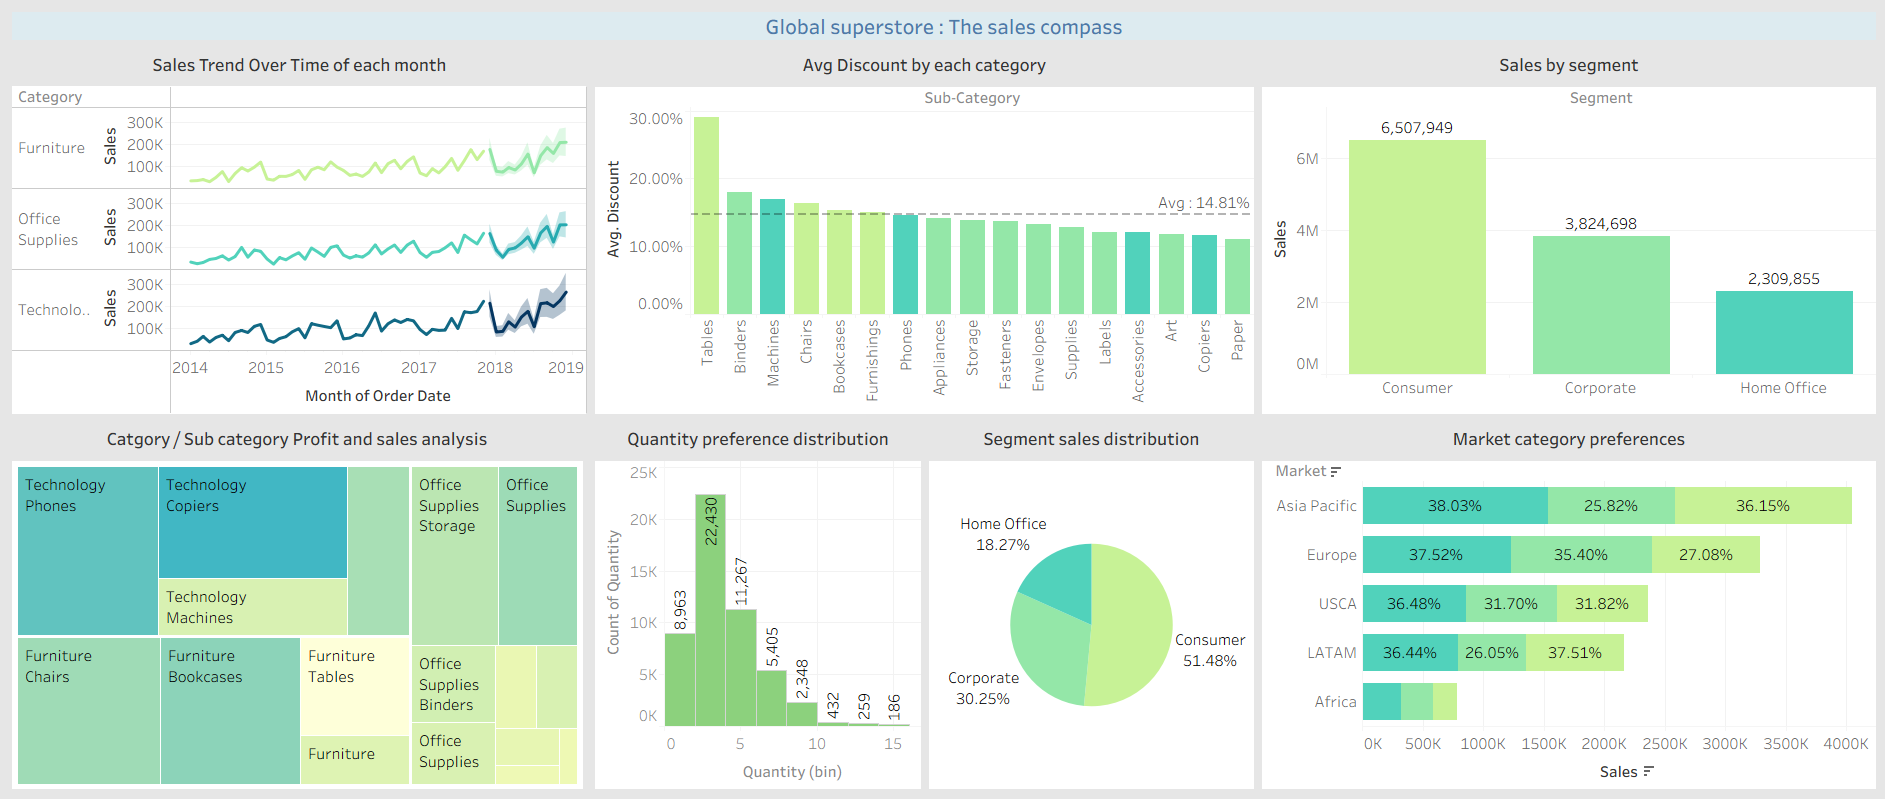

The page's visual inventory and layout, read from the dashboard file:
{"tool":"tableau","page":{"name":"Global superstore : The sales compass","canvas":[1000,1000],"units":"permille","ordinal":0},"visuals":[{"type":"title","box":[4.2,10,991.5,45]},{"type":"worksheet","title":"Sales Trend Over Time of each month","mark":"Automatic","rows":["Category","Sales"],"cols":["Order Date"],"box":[4.2,54.9,308.7,467.5]},{"type":"worksheet","title":"Avg Discount by each category","mark":"Automatic","rows":["Discount"],"cols":["Sub-Category"],"box":[312.9,54.9,353.5,467.5]},{"type":"worksheet","title":"Sales by segment","mark":"Automatic","rows":["Sales"],"cols":["Segment"],"box":[666.4,54.9,329.3,467.5]},{"type":"worksheet","title":"Catgory / Sub category Profit and sales analysis","mark":"Automatic","box":[4.2,522.4,308.7,467.6]},{"type":"worksheet","title":"Quantity preference distribution","mark":"Automatic","rows":["Quantity"],"cols":["Quantity (bin)"],"box":[312.9,522.5,177,467.5]},{"type":"worksheet","title":"Segment sales distribution","mark":"Pie","box":[490,522.5,176.4,467.5]},{"type":"worksheet","title":"Market category preferences","mark":"Automatic","rows":["Market"],"cols":["Sales"],"box":[666.4,522.5,329.3,467.5]}]}

Visuals, with their boxes on the dashboard's canvas, which has no fixed pixel size, in thousandths of its width and height (x1, y1, x2, y2). These are canvas units, not pixel positions in the 1885x799 screenshot, which may show the page scaled, cropped or inside an application window:
title: 4, 10, 996, 55
"Sales Trend Over Time of each month" worksheet: 4, 55, 313, 522
"Avg Discount by each category" worksheet: 313, 55, 666, 522
"Sales by segment" worksheet: 666, 55, 996, 522
"Catgory / Sub category Profit and sales analysis" worksheet: 4, 522, 313, 990
"Quantity preference distribution" worksheet: 313, 522, 490, 990
"Segment sales distribution" worksheet (Pie marks): 490, 522, 666, 990
"Market category preferences" worksheet: 666, 522, 996, 990
